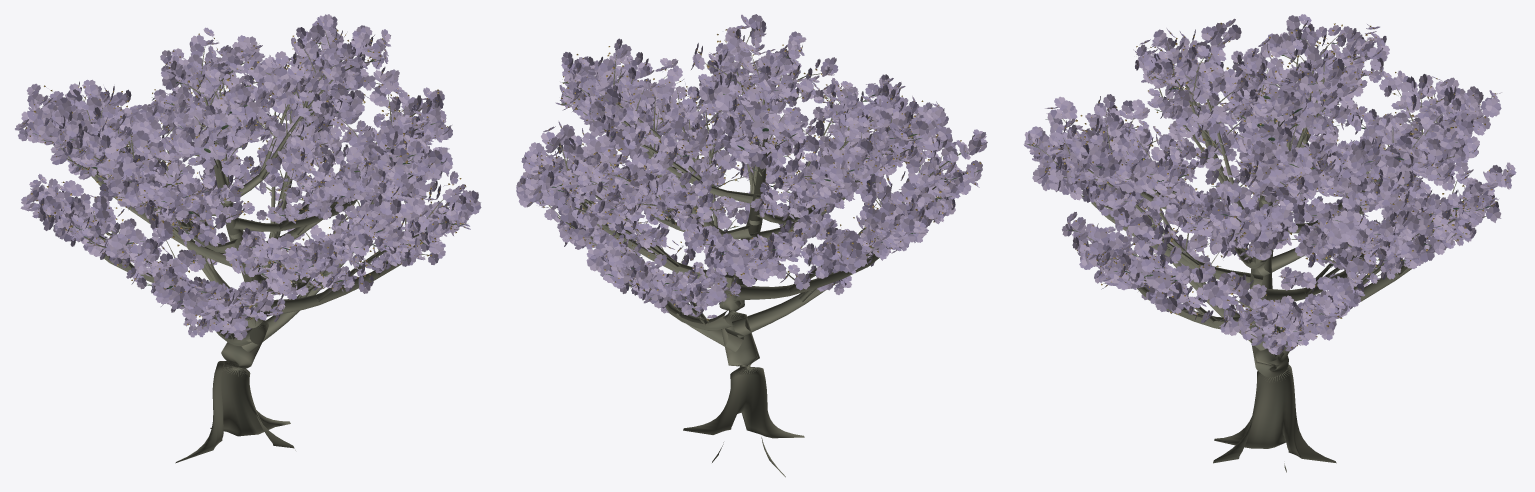
3 renders of one model, left to right at view 1: azimuth 30°, elevation 25°; view 2: azimuth 150°, elevation 25°; view 3: azimuth 270°, elevation 25°, orthographic. The views are drawn at different scales.
Visible parts, largest first — view 1: leaves, branches; view 2: leaves, branches; view 3: leaves, branches.
Part boxes in pixels (bbox=[...]): leaves: bbox=[15, 14, 481, 340]; branches: bbox=[26, 31, 458, 463]; leaves: bbox=[516, 14, 987, 320]; branches: bbox=[539, 30, 975, 477]; leaves: bbox=[1023, 14, 1516, 354]; branches: bbox=[1035, 33, 1497, 472].
Bounding box in the file's own units: 9.17 × 7.98 × 9.02.
